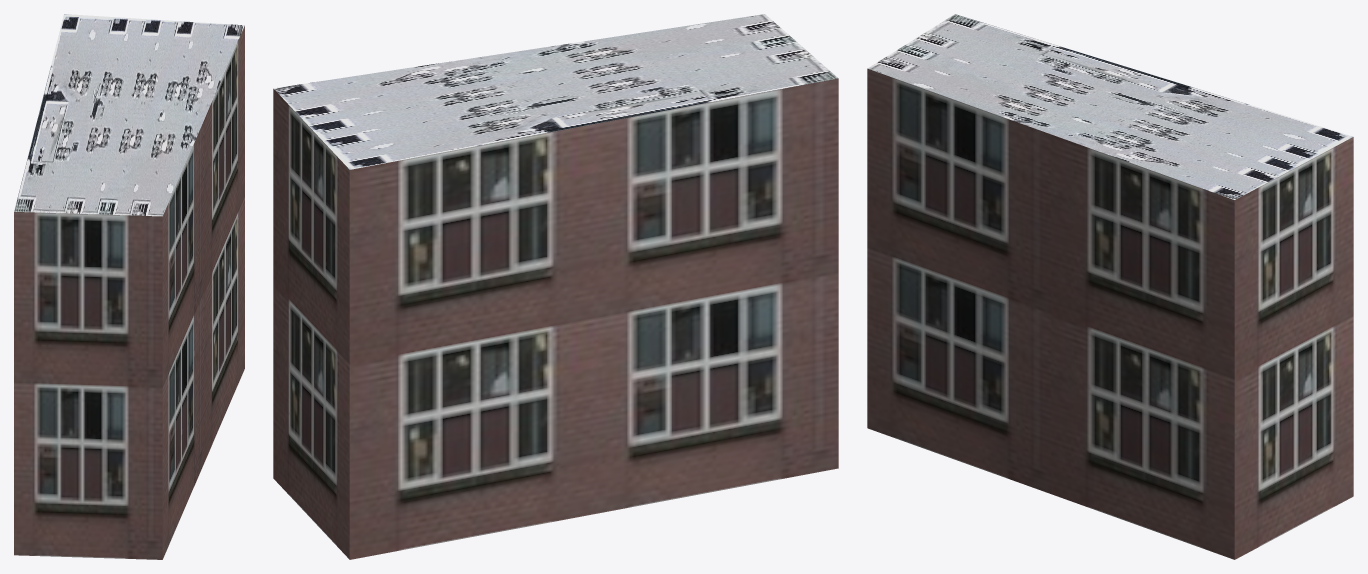
The model's file is ResTex__1016.fbx.
The picture shows the model from 3 angles, left to right: view 1: azimuth 30°, elevation 25°; view 2: azimuth 150°, elevation 25°; view 3: azimuth 270°, elevation 25°; orthographic projection. The views are drawn at different scales.
Parts seen in each view (by area): view 1: CityEngineMaterial_12_m, CityEngineMaterial_m; view 2: CityEngineMaterial_12_m, CityEngineMaterial_m; view 3: CityEngineMaterial_12_m, CityEngineMaterial_m.
Part boxes in pixels (x1,y1,x2,y2): CityEngineMaterial_12_m: (14,26,244,559); CityEngineMaterial_m: (14,14,244,216); CityEngineMaterial_12_m: (273,78,838,559); CityEngineMaterial_m: (273,14,838,169); CityEngineMaterial_12_m: (867,68,1353,559); CityEngineMaterial_m: (867,14,1353,199).
Bounding box in the file's own units: 6.66 × 6 × 7.35.
Materials: 2 (2 with a texture image).
